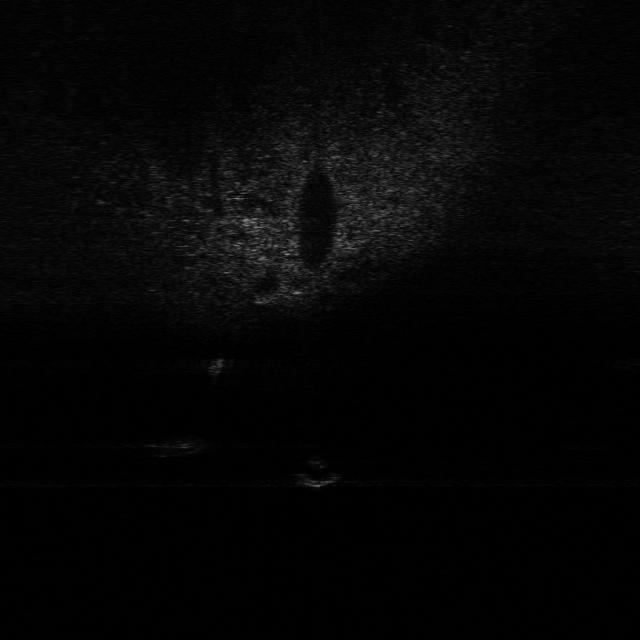ball: (287, 451, 343, 490)
circle cage: (152, 430, 216, 459)
cylinder: (204, 352, 232, 383)
